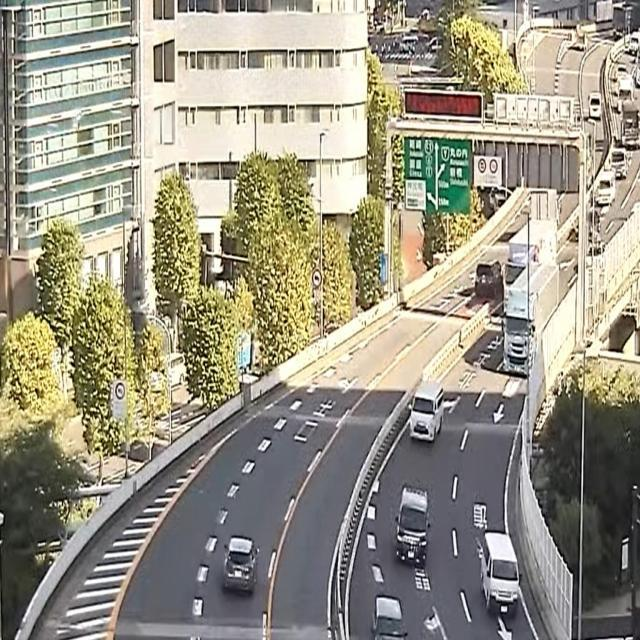vehicle: (504, 262, 560, 370), (503, 222, 559, 316), (480, 531, 521, 618), (396, 486, 428, 572), (222, 536, 260, 598), (410, 378, 444, 444), (475, 258, 505, 304)
